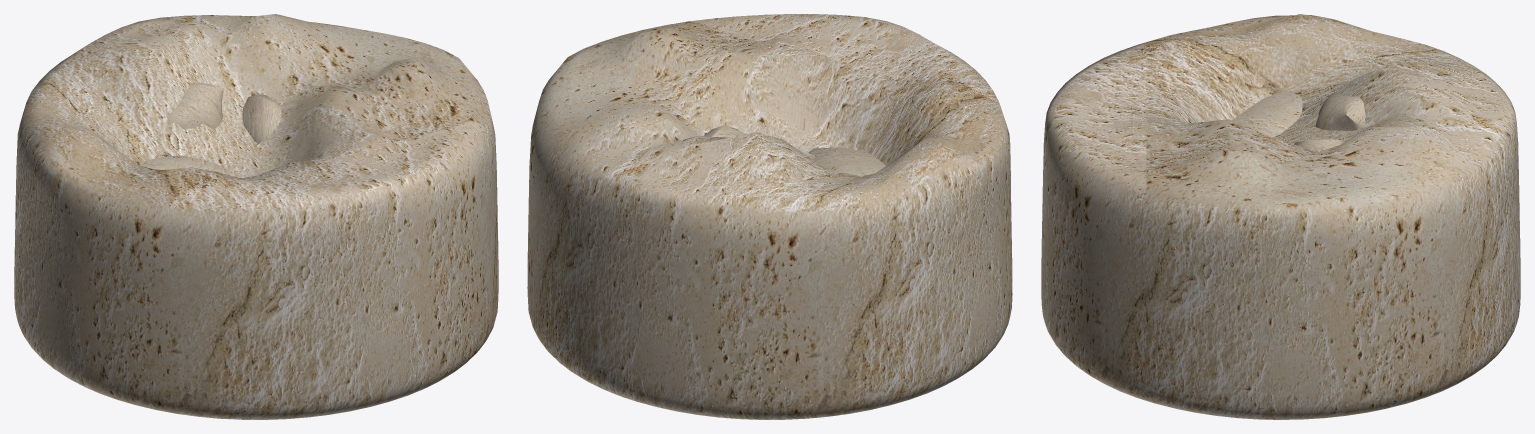
Rendered from Lime Stone and Paste.fbx.
3 renders of one model, left to right at view 1: azimuth 30°, elevation 25°; view 2: azimuth 150°, elevation 25°; view 3: azimuth 270°, elevation 25°, orthographic.
Visible parts, largest first — view 1: Lime Paste, Lime Stone; view 2: Lime Paste, Lime Stone; view 3: Lime Paste, Lime Stone.
Part boxes in pixels (box(x1,y1,x2,y2)): Lime Paste: box(14, 14, 498, 419); Lime Stone: box(140, 83, 281, 177); Lime Paste: box(527, 14, 1012, 419); Lime Stone: box(703, 125, 885, 176); Lime Paste: box(1041, 14, 1520, 419); Lime Stone: box(1232, 91, 1365, 152).
Size of the model in its own units: 16.52 by 9.29 by 16.48.
